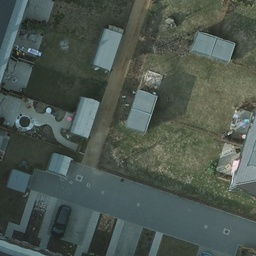car: (53, 205, 68, 238)
